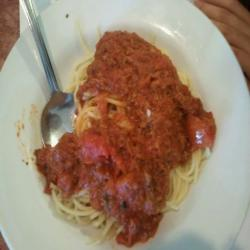bolonese_pasta: (19, 25, 223, 244)
